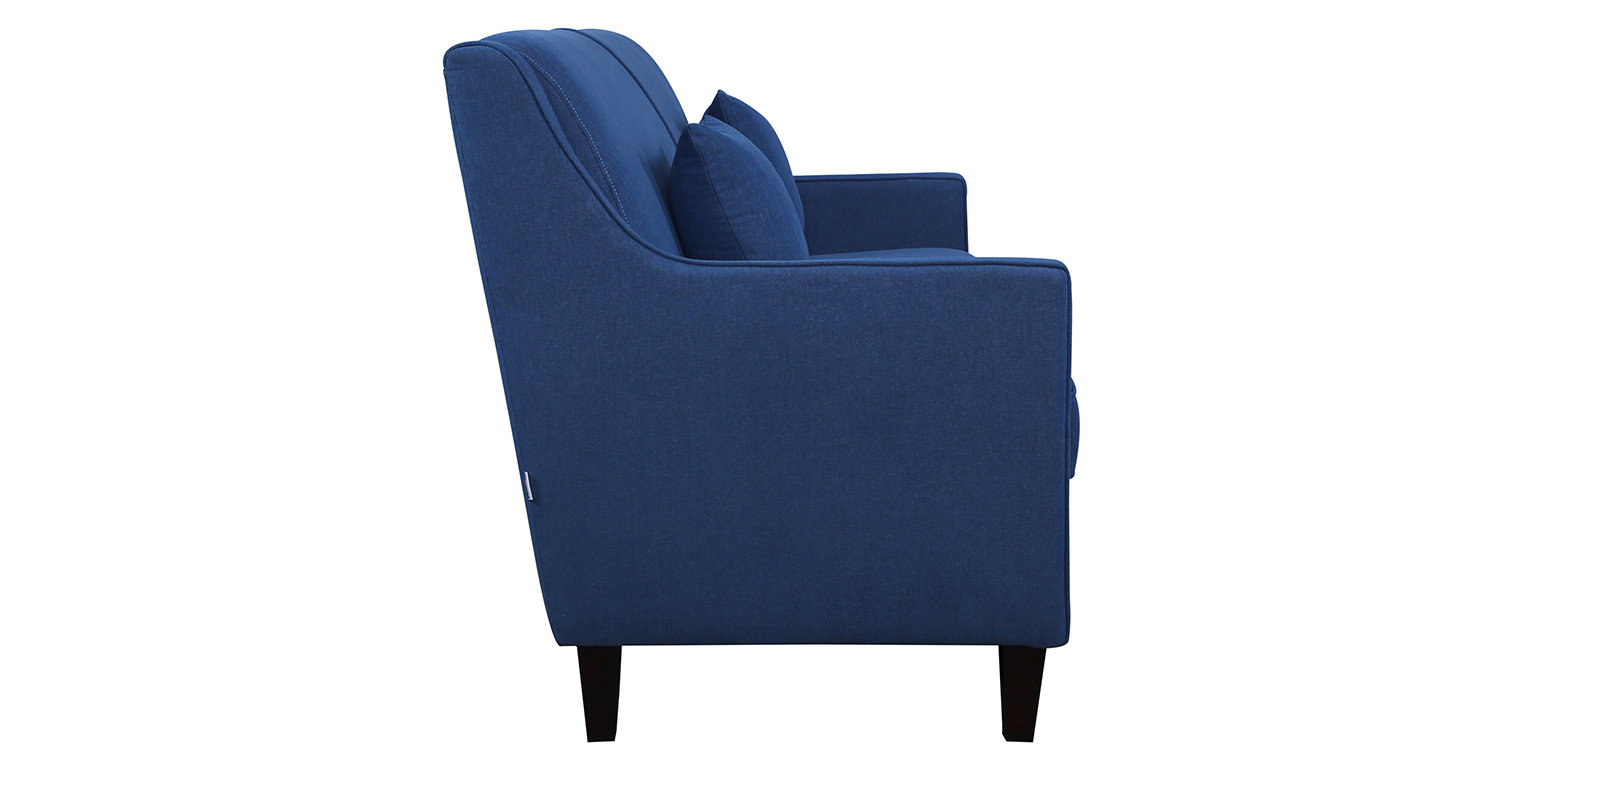Oscar Three Seater Sofa in Denim Blue Colour by CasaCraft: (439, 26, 1079, 744)
